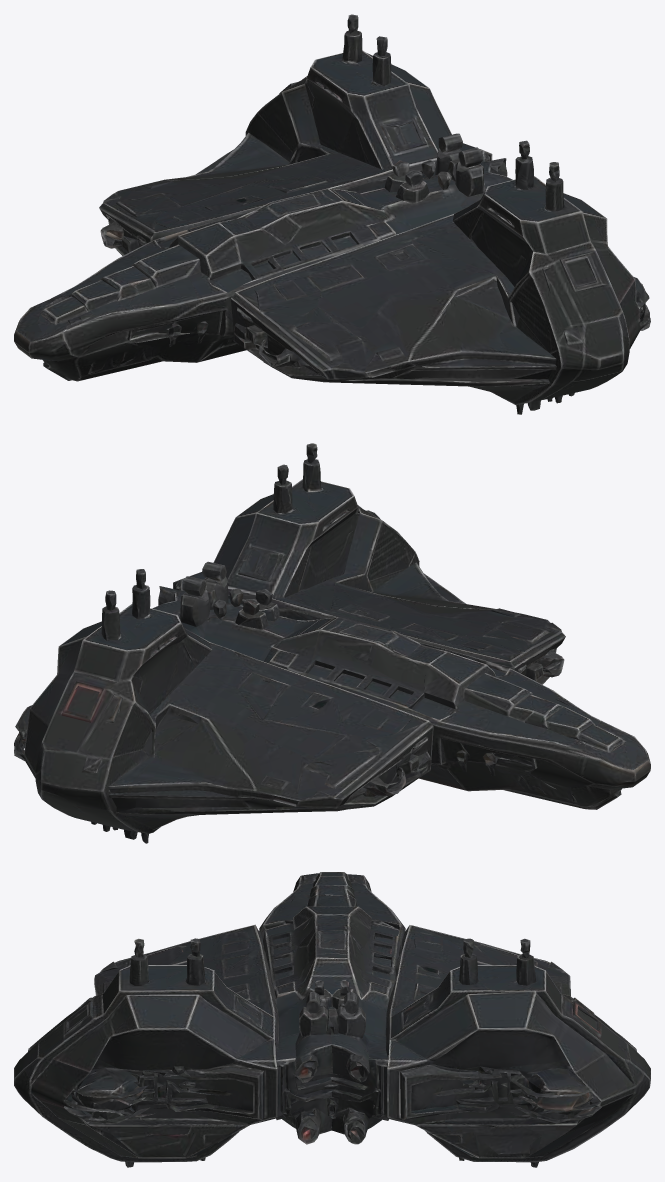
Rendered from enemy-vulcan-fortress.glb.
3 renders of one model, top to bottom at view 1: azimuth 30°, elevation 25°; view 2: azimuth 150°, elevation 25°; view 3: azimuth 270°, elevation 25°, orthographic. The views are drawn at different scales.
Bounding box in the file's own units: 1.67 × 0.7437 × 1.9.
Materials: 1 (1 with a texture image).
